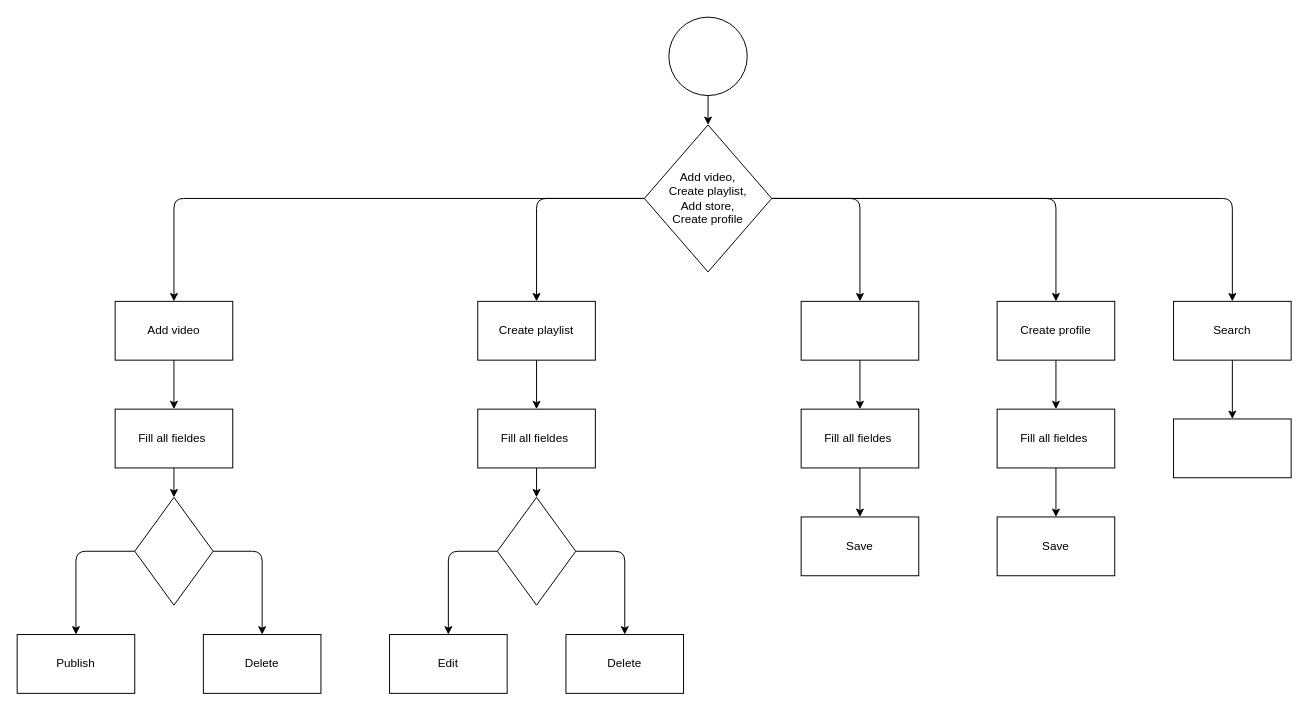
The diagram is 1308 pixels wide and 711 high, and some of its shapes have lost their labels. The centre of each missing label's shape, as x and y in pixels:
Add new store: pixel 859 330
Edit Delete ?: pixel 536 550
Make search: pixel 1232 448
Publish Delete ?: pixel 173 550
Start: pixel 707 56
